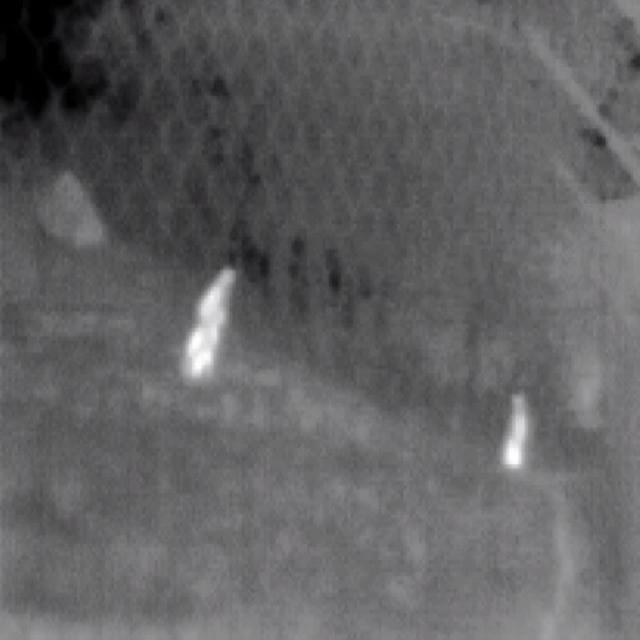cheetah: (185, 269, 238, 379), (503, 393, 531, 467)
